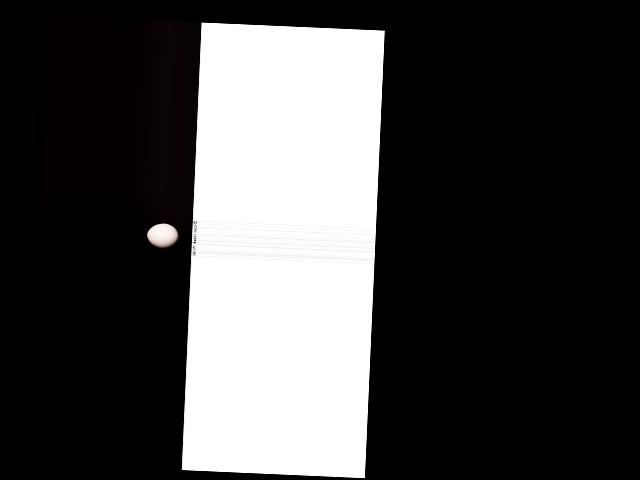egg: (146, 223, 179, 248)
